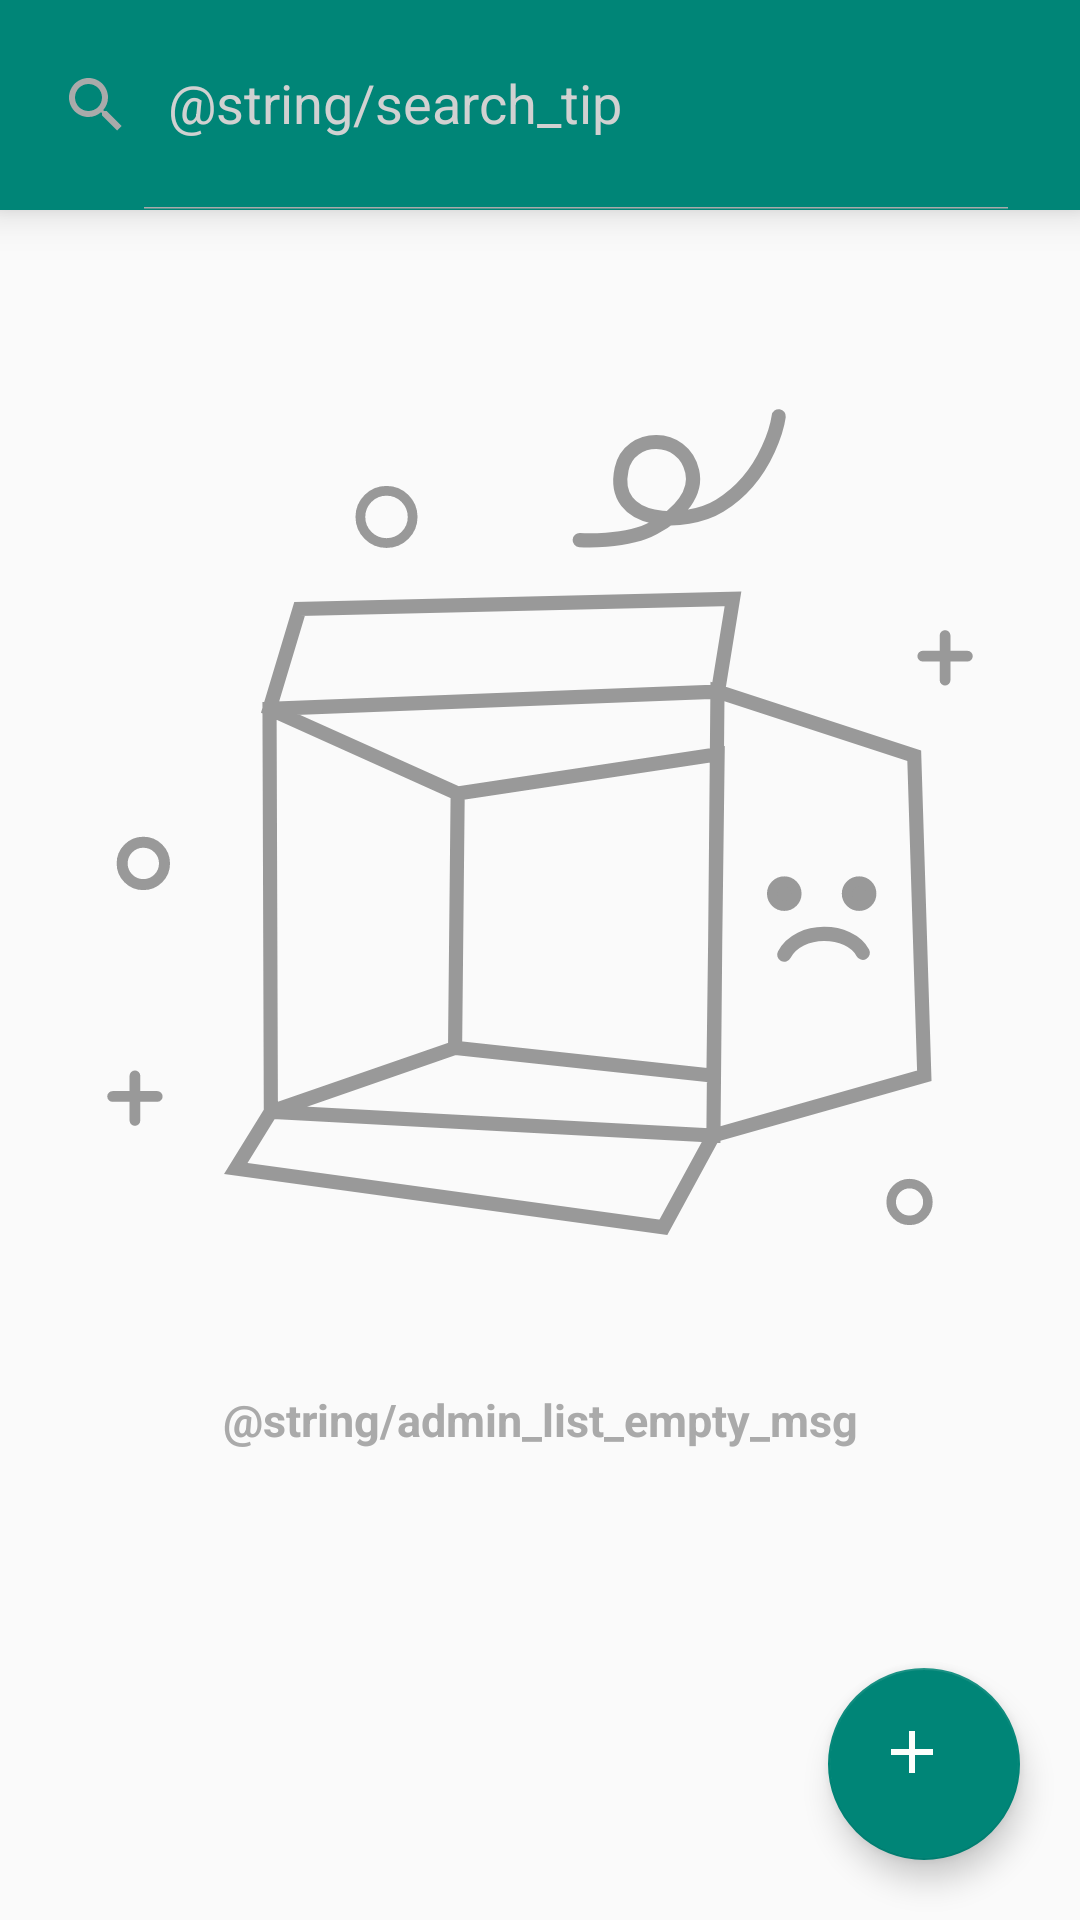

Screen size 1080 x 1920. Icon name, then its center in pixels as [x,y]:
add: [924,1764]
